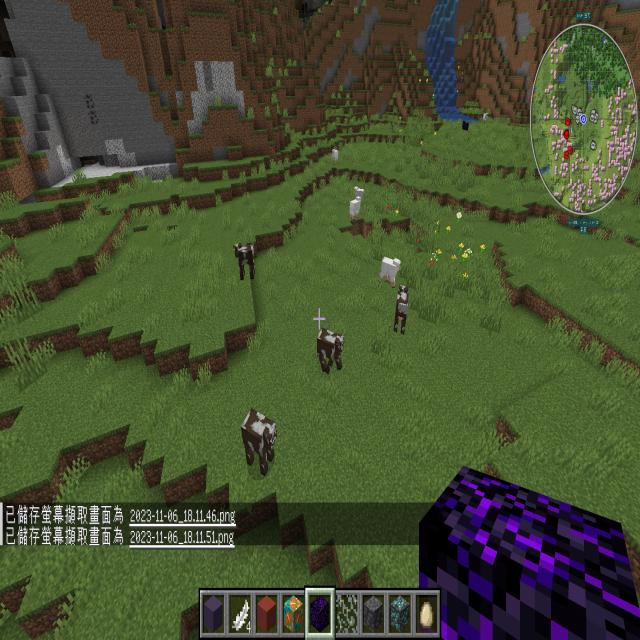cow: (239, 403, 279, 480), (316, 325, 346, 379), (232, 239, 258, 285), (392, 282, 410, 345)
